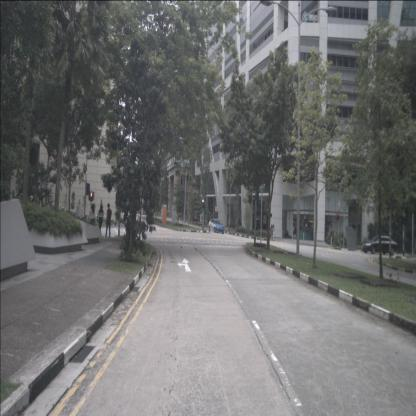human-pedestrian-adult: (104, 203, 112, 241), (88, 204, 96, 237), (97, 204, 104, 234), (270, 224, 274, 241), (272, 224, 275, 241), (285, 227, 288, 238), (167, 209, 169, 218)
vehicle-car: (362, 235, 398, 256), (208, 218, 224, 234)
